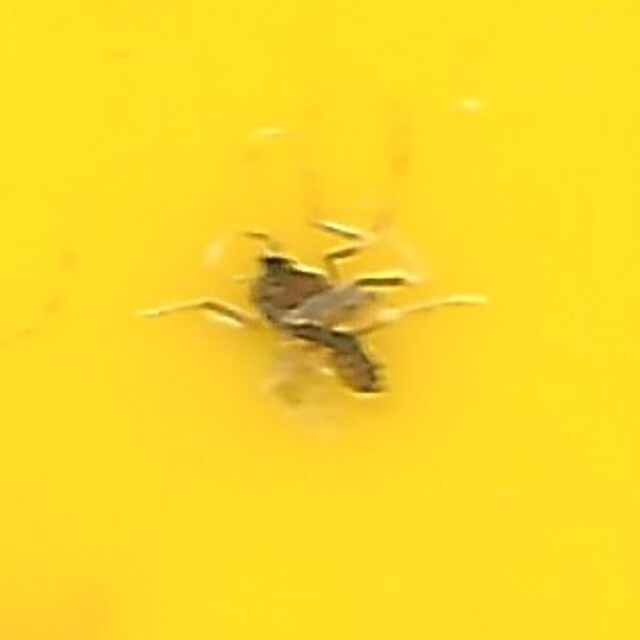Nematocera: (227, 225, 413, 415)
